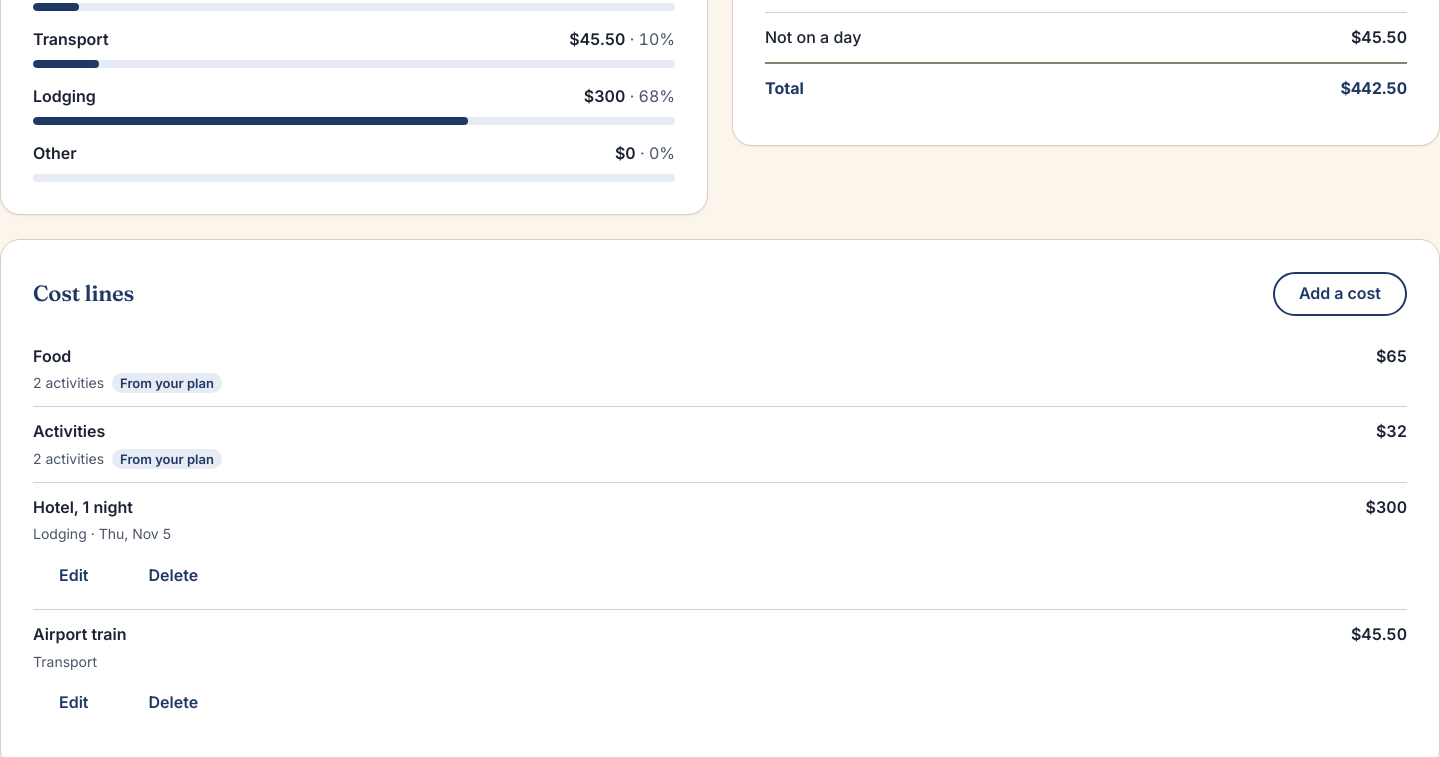
it: Cost lines › edits a line and reloads the totals
The image size is (1440, 757).
(page scrolled)
Click the button with aria-label "Edit Hotel, 1 night" at (74, 575), box x1=33 y1=553 x2=114 y2=597
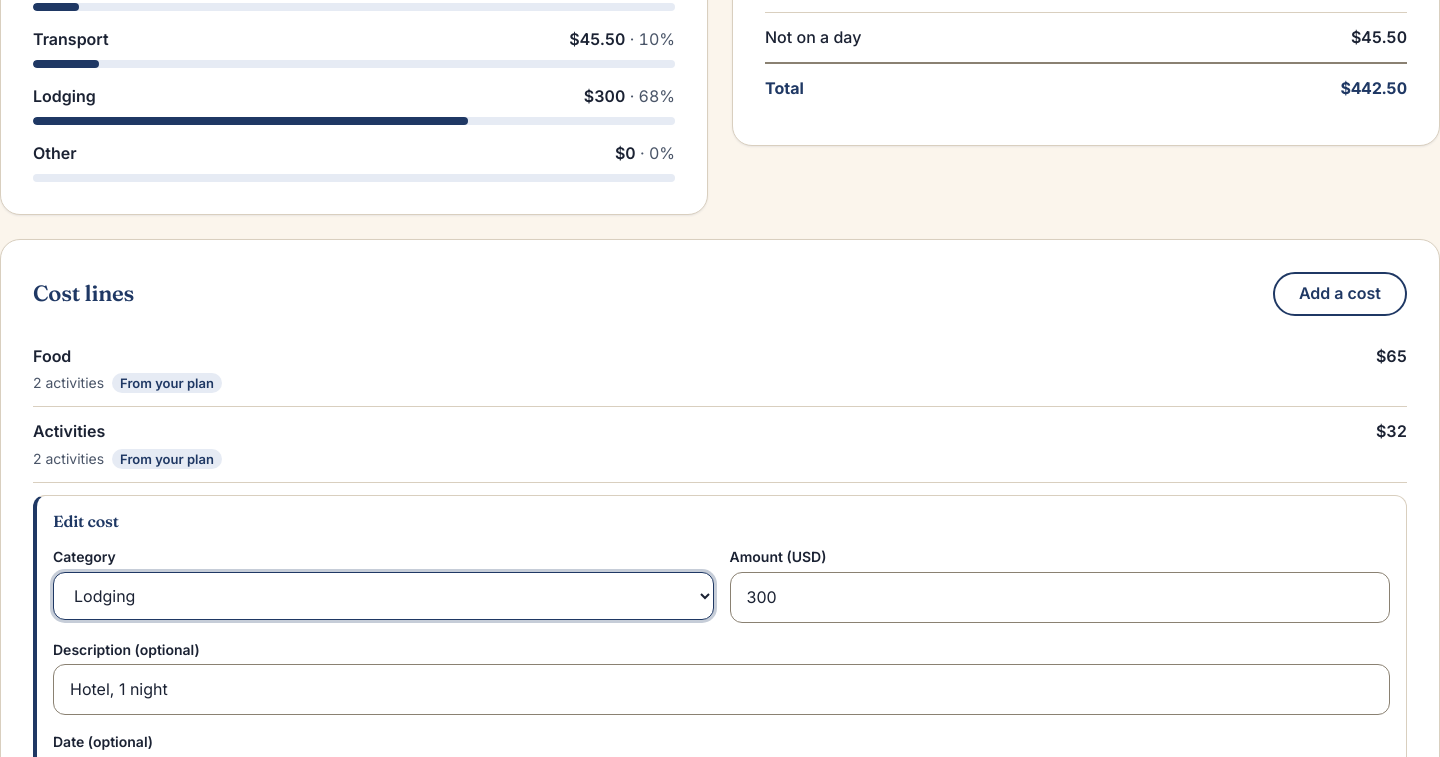
Result: the dropdown labelled "Category" shows "Lodging" at x1=53 y1=572 x2=714 y2=620
Result: the field labelled "Description (optional)" holds "Hotel, 1 night" at x1=53 y1=664 x2=1390 y2=715
Replace the text in the number field labelled "Amount (USD)" with "280" at (1060, 597), box x1=730 y1=572 x2=1390 y2=622
(page scrolled)
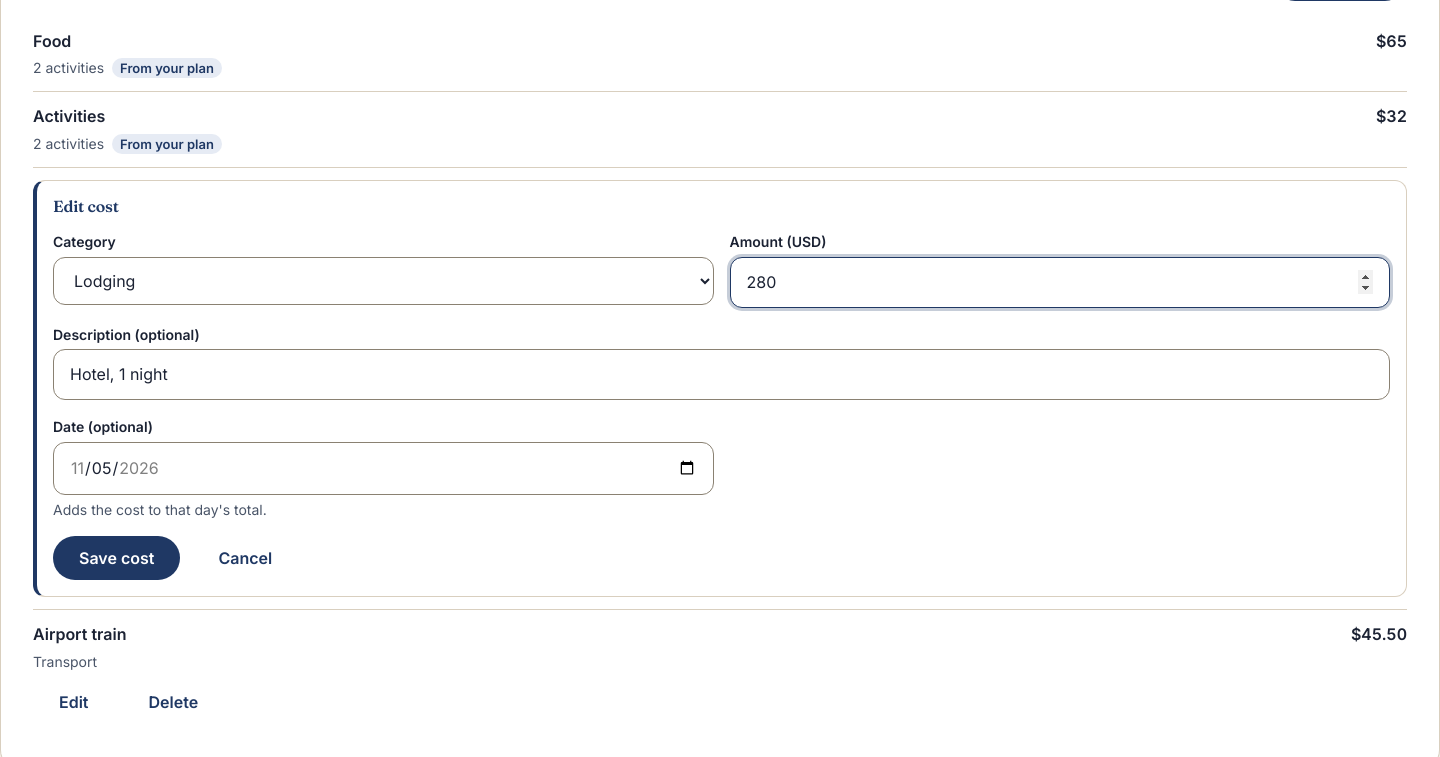
Click the button "Save cost" at (117, 558), box x1=53 y1=536 x2=180 y2=580
(page scrolled)
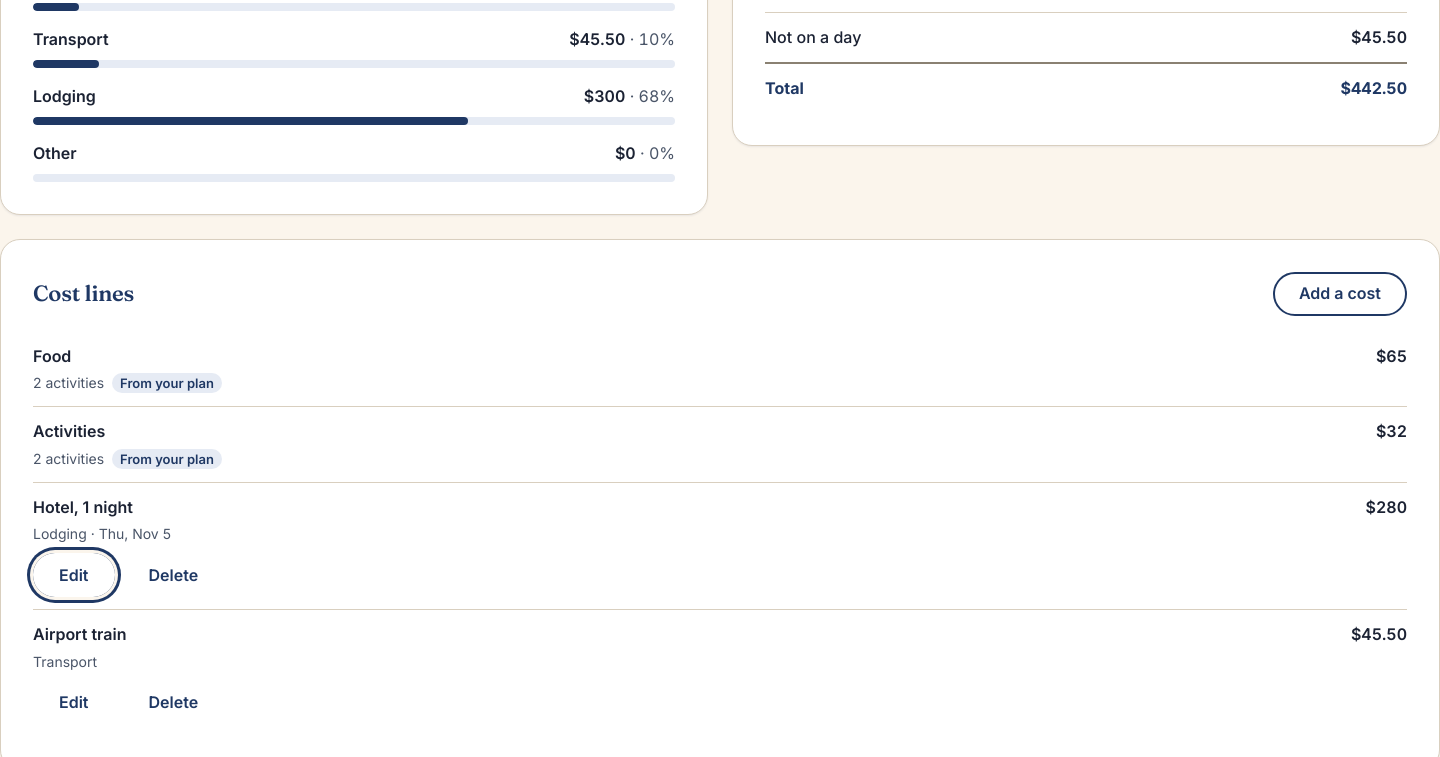
Result: the text "$280" is shown at x1=1366 y1=495 x2=1407 y2=520
